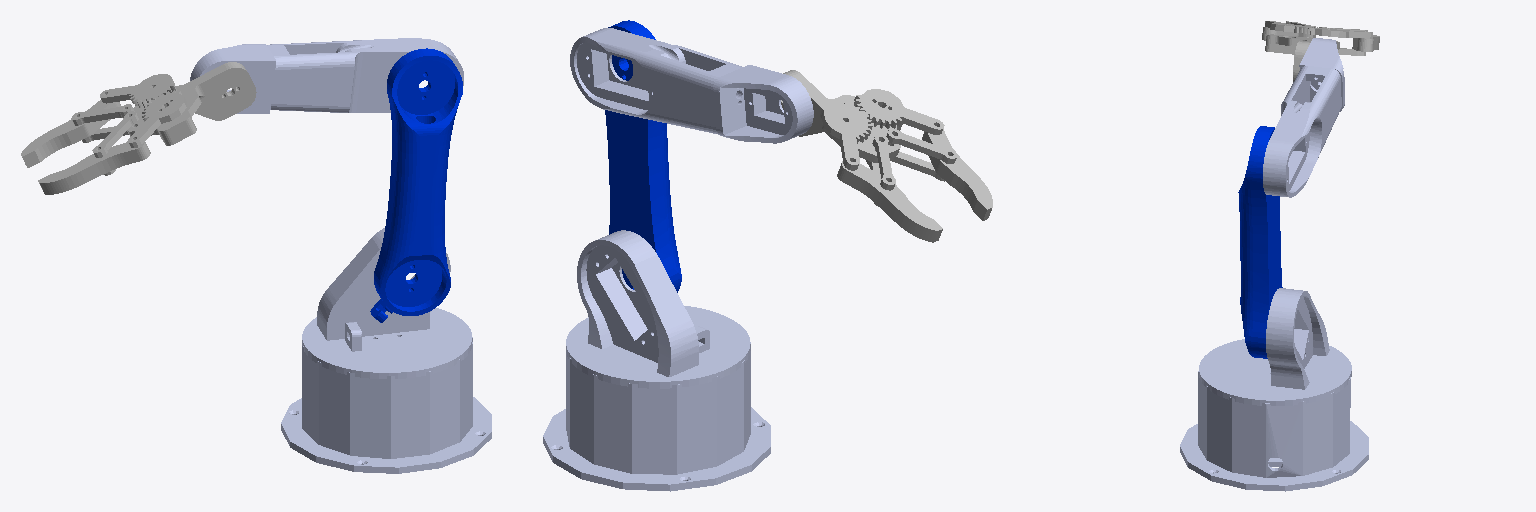
URDF robot description (pyarm_plugin_description):
<?xml version="1.0" encoding="utf-8"?>
<!-- This URDF was automatically created by SolidWorks to URDF Exporter! Originally created by [author] ([email redacted]) 
     Commit Version: 1.5.1-0-g916b5db  Build Version: 1.5.7152.31018
     For more information, please see http://wiki.ros.org/sw_urdf_exporter -->
<robot
  name="pyarm_plugin_description">
  <link
    name="base_link">
    <visual>
      <origin
        xyz="0 0 0"
        rpy="1.57 0 0" />
      <geometry>
        <mesh
          filename="package://pyarm_plugin_description/meshes/base_link.stl" />
      </geometry>
      <material
        name="">
        <color
          rgba="0.792156862745098 0.819607843137255 0.933333333333333 1" />
      </material>
    </visual>
    <collision>
      <origin
        xyz="0 0 0"
        rpy="0 0 0" />
      <geometry>
        <mesh
          filename="package://pyarm_plugin_description/meshes/base_link.stl" />
      </geometry>
    </collision>
  </link>
  <joint
    name="joint1"
    type="continuous">
    <origin
      xyz="0 0 5.4"
      rpy="1.5708 0 -1.8325" />
    <parent
      link="base_link" />
    <child
      link="Link1" />
    <axis
      xyz="0 1 0" />
    <limit
      lower="0"
      upper="0"
      effort="0"
      velocity="0" />
  </joint>
  <link
    name="Link1">
    <inertial>
      <origin
        xyz="-0.00643461830391595 0.0172894164537123 -0.00137199474310693"
        rpy="0 0 0" />
      <mass
        value="0.0680383193949221" />
      <inertia
        ixx="5.81331983559235E-05"
        ixy="5.17766059437662E-06"
        ixz="-6.41757849795525E-07"
        iyy="5.46763949062908E-05"
        iyz="6.24275294196729E-06"
        izz="4.5017734228227E-05" />
    </inertial>
    <visual>
      <origin
        xyz="0 0 0"
        rpy="0 0 0" />
      <geometry>
        <mesh
          filename="package://pyarm_plugin_description/meshes/Link1.stl" />
      </geometry>
      <material
        name="">
        <color
          rgba="0.792156862745098 0.819607843137255 0.933333333333333 1" />
      </material>
    </visual>
    <collision>
      <origin
        xyz="0 0 0"
        rpy="0 0 0" />
      <geometry>
        <mesh
          filename="package://pyarm_plugin_description/meshes/Link1.stl"/>
      </geometry>
    </collision>
  </link>
  <joint
    name="joint2"
    type="continuous">
    <origin
      xyz="-0.41 4 -1.4"
      rpy="-1.5708 1.5074 -1.5708" />
    <parent
      link="Link1" />
    <child
      link="Link2" />
    <axis
      xyz="0 0 1" />
  </joint>
  <link
    name="Link2">
    <inertial>
      <origin
        xyz="-0.000130008009334437 0.0585890981948866 0.00376911727422892"
        rpy="0 0 0" />
      <mass
        value="0.0643951130427438" />
      <inertia
        ixx="0.000107036678125075"
        ixy="-1.51779709027189E-09"
        ixz="2.42714408635116E-10"
        iyy="9.10991752822536E-06"
        iyz="2.39470813646573E-07"
        izz="0.000111843226044037" />
    </inertial>
    <visual>
      <origin
        xyz="0 0 0"
        rpy="0 0 0" />
      <geometry>
        <mesh
          filename="package://pyarm_plugin_description/meshes/Link2.stl" />
      </geometry>
      <material
        name="">
        <color
          rgba="0 0.254901960784314 0.92156862745098 1" />
      </material>
    </visual>
    <collision>
      <origin
        xyz="0 0 0"
        rpy="0 0 0" />
      <geometry>
        <mesh
          filename="package://pyarm_plugin_description/meshes/Link2.stl" />
      </geometry>
    </collision>
  </link>
  <joint
    name="joint3"
    type="continuous">
    <origin
      xyz="0 12 -0.2"
      rpy="-3.1416 0 -1.6225" />
    <parent
      link="Link2" />
    <child
      link="Link3" />
    <axis
      xyz="0 0 1" />
  </joint>
  <link
    name="Link3">
    <inertial>
      <origin
        xyz="0.000277871106889066 0.0392852844880935 0.0136088570847484"
        rpy="0 0 0" />
      <mass
        value="0.0502682845095197" />
      <inertia
        ixx="5.46008836044273E-05"
        ixy="-6.95727099744342E-08"
        ixz="-7.11277681205904E-11"
        iyy="9.28677690295478E-06"
        iyz="-2.87520254246903E-07"
        izz="5.8149015055016E-05" />
    </inertial>
    <visual>
      <origin
        xyz="0 3.5 0"
        rpy="0 0 0" />
      <geometry>
        <mesh
          filename="package://pyarm_plugin_description/meshes/Link3.stl" />
      </geometry>
      <material
        name="">
        <color
          rgba="0.792156862745098 0.819607843137255 0.933333333333333 1" />
      </material>
    </visual>
    <collision>
      <origin
        xyz="0 0 0"
        rpy="0 0 0" />
      <geometry>
        <mesh
          filename="package://pyarm_plugin_description/meshes/Link3.stl" />
      </geometry>
    </collision>
  </link>
  <joint
    name="joint4"
    type="continuous">
    <origin
      xyz="-0.55 9 0.6"
      rpy="0 0 0" />
    <parent
      link="Link3" />
    <child
      link="Link4" />
    <axis
      xyz="0 1 0" />
    <limit
      lower="0"
      upper="0"
      effort="0"
      velocity="0" />
  </joint>
  <link
    name="Link4">
    <inertial>
      <origin
        xyz="0.00504588236037307 0.0237368589705384 -0.00526462568981487"
        rpy="0 0 0" />
      <mass
        value="0.016499419913512" />
      <inertia
        ixx="3.91220886226653E-06"
        ixy="1.15861756603993E-08"
        ixz="-3.98293926056706E-09"
        iyy="2.61244501110147E-06"
        iyz="5.7579177877693E-07"
        izz="5.02234437044229E-06" />
    </inertial>
    <visual>
      <origin
        xyz="0.55 0 0"
        rpy="0 0 0" />
      <geometry>
        <mesh
          filename="package://pyarm_plugin_description/meshes/Link4.stl" />
      </geometry>
      <material
        name="">
        <color
          rgba="0.792156862745098 0.819607843137255 0.933333333333333 1" />
      </material>
    </visual>
    <collision>
      <origin
        xyz="0 0 0"
        rpy="0 0 0" />
      <geometry>
        <mesh
          filename="package://pyarm_plugin_description/meshes/Link4.stl" />
      </geometry>
    </collision>
  </link>
  <joint
    name="joint5"
    type="continuous">
    <origin
      xyz="0.505 2.73996 -1.4"
      rpy="2.0019 1.5708 3.0534" />
    <parent
      link="Link4" />
    <child
      link="Link5" />
    <axis
      xyz="1 0 0" />
  </joint>
  <link
    name="Link5">
    <inertial>
      <origin
        xyz="0.0268503291297064 0.00865268008786496 0.0489386208072843"
        rpy="0 0 0" />
      <mass
        value="0.0420474433713372" />
      <inertia
        ixx="1.18088864723105E-05"
        ixy="-3.87367265531403E-07"
        ixz="-1.38623960570058E-06"
        iyy="1.32293005118262E-05"
        iyz="-1.36413012906019E-06"
        izz="3.99156130221393E-06" />
    </inertial>
    <visual>
      <origin
        xyz="1.62 0.5 -1.7"
        rpy="0 0 0" />
      <geometry>
        <mesh
          filename="package://pyarm_plugin_description/meshes/Link5.stl"/>
      </geometry>
      <material
        name="">
        <color
          rgba="0.752941176470588 0.752941176470588 0.752941176470588 1" />
      </material>
    </visual>
    <collision>
      <origin
        xyz="0 0 0"
        rpy="0 0 0" />
      <geometry>
        <mesh
          filename="package://pyarm_plugin_description/meshes/Link5.stl" />
      </geometry>
    </collision>
  </link>
</robot>

--- Facts derived from the render (not from the file) ---
The picture shows the robot from 3 angles, left to right: view 1: azimuth 30°, elevation 25°; view 2: azimuth 150°, elevation 25°; view 3: azimuth 270°, elevation 25°; orthographic projection.
Robot: pyarm_plugin_description — 6 links, 5 joints (5 continuous); root link base_link; default pose: every joint at zero.
Visible links, largest first — view 1: base_link, Link2, Link5, Link1, Link3, Link4; view 2: base_link, Link1, Link5, Link3, Link2, Link4; view 3: base_link, Link1, Link2, Link3, Link5, Link4.
Boxes of the visible links, <box> form: base_link: <box>281,342,491,473</box>; Link2: <box>370,48,462,322</box>; Link5: <box>21,62,256,194</box>; Link1: <box>302,228,472,378</box>; Link3: <box>267,38,463,112</box>; Link4: <box>190,44,275,113</box>; base_link: <box>543,351,770,491</box>; Link1: <box>566,230,750,388</box>; Link5: <box>781,70,992,242</box>; Link3: <box>570,28,742,134</box>; Link2: <box>605,20,681,292</box>; Link4: <box>713,65,813,143</box>; base_link: <box>1180,371,1368,491</box>; Link1: <box>1199,288,1351,405</box>; Link2: <box>1238,126,1282,358</box>; Link3: <box>1263,66,1341,197</box>; Link5: <box>1262,21,1379,81</box>; Link4: <box>1299,38,1344,111</box>.
Bounding box of the posed robot: 27.61 × 12.7 × 24.4 m (x, y, z).
6 mesh visuals loaded from 6 distinct referenced files (6 binary STL).